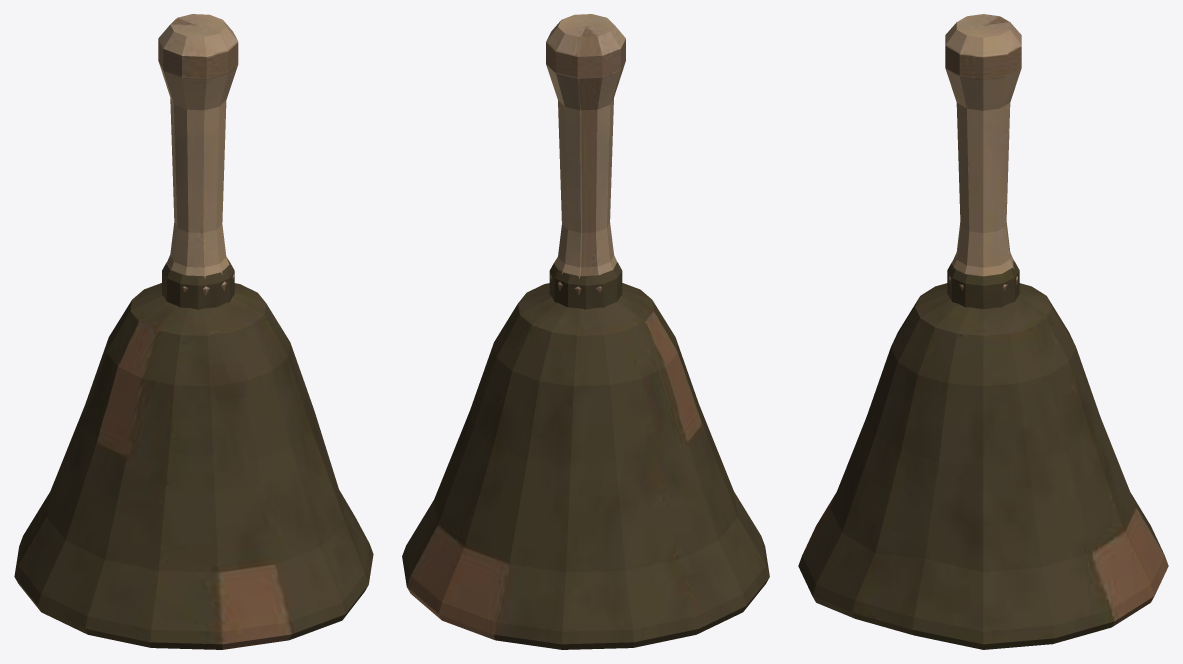
Rendered from P16_small_hand_bell.glb.
The picture shows the model from 3 angles, left to right: view 1: azimuth 30°, elevation 25°; view 2: azimuth 150°, elevation 25°; view 3: azimuth 270°, elevation 25°; orthographic projection.
Visible parts, largest first — view 1: Worn hollow brass bell; view 2: Worn hollow brass bell; view 3: Worn hollow brass bell.
Part boxes in pixels (box(x1,y1,x2,y2)): Worn hollow brass bell: box(14, 14, 373, 649); Worn hollow brass bell: box(402, 14, 769, 649); Worn hollow brass bell: box(798, 14, 1168, 649).
Size of the model in its own units: 0.092 by 0.15 by 0.092.
5 materials, 5 textured.
